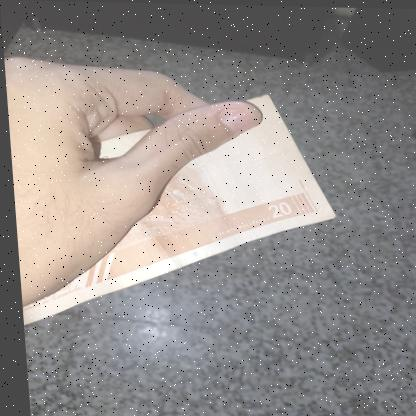twenty-back-vef: (5, 87, 340, 332)
